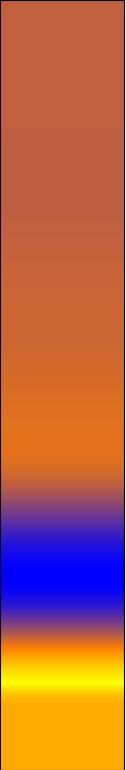Thermal Runaway: (10, 331, 114, 464), (5, 649, 122, 766)
critical: (2, 4, 118, 319), (3, 471, 121, 501), (5, 628, 118, 642)
safe: (5, 510, 119, 621)
